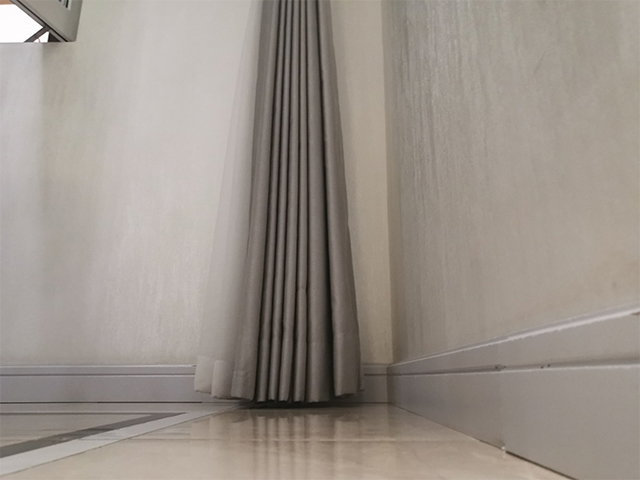curtain: (190, 1, 363, 406)
